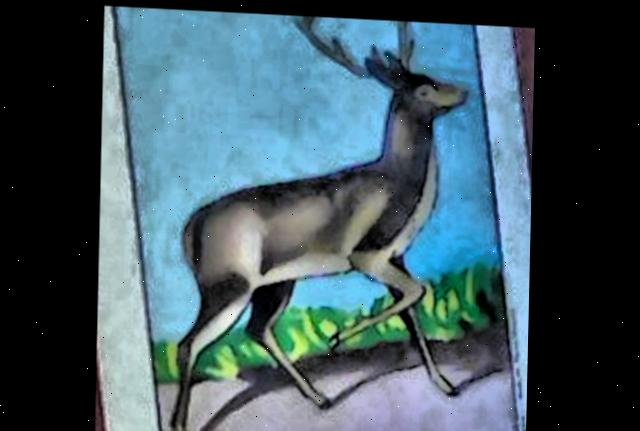El Venado: (116, 5, 518, 431)
